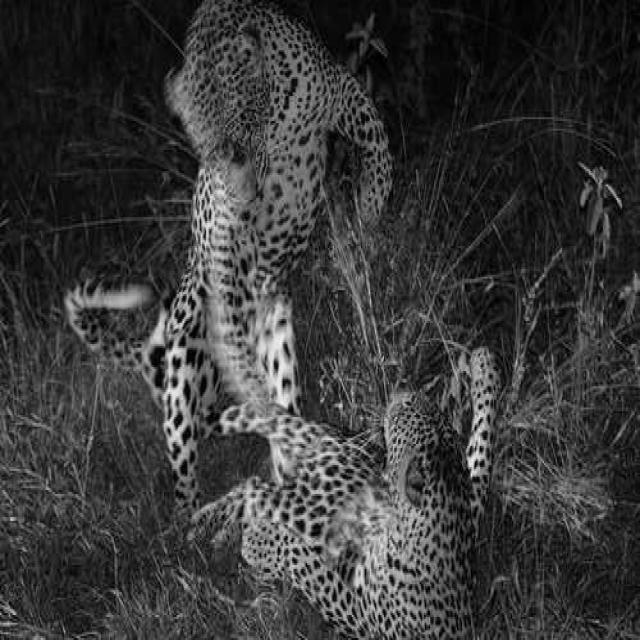Leopard: (132, 41, 364, 408), (256, 367, 496, 623)
